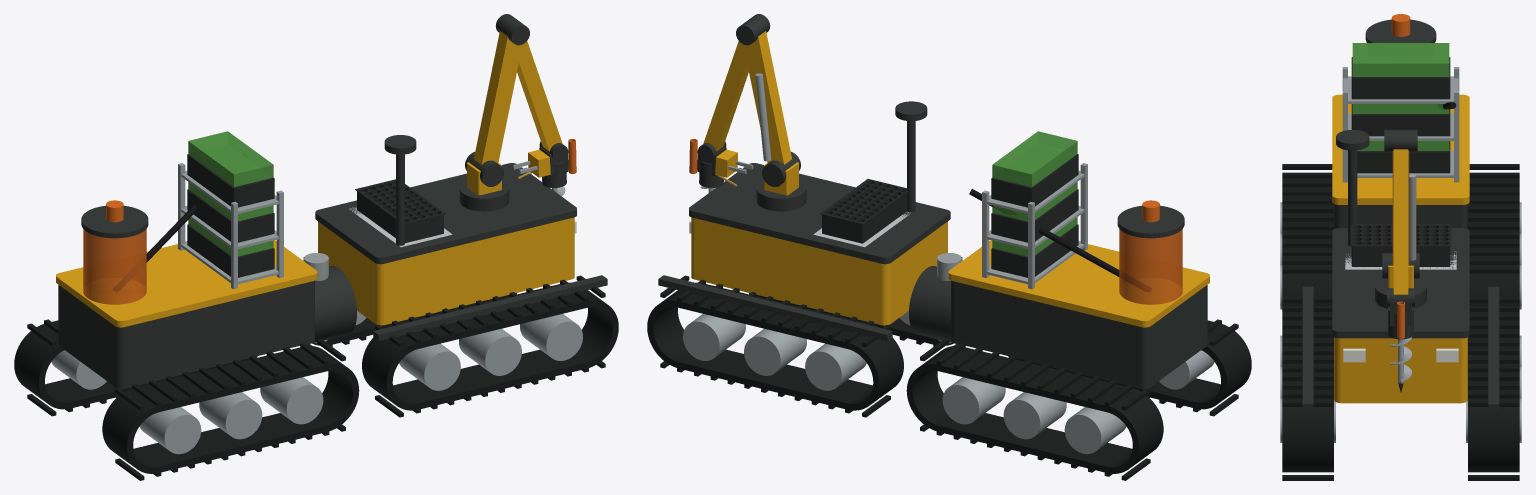
Rendered from pahadi.glb.
3 views of the same model, side by side, from view 1: azimuth 30°, elevation 25°; view 2: azimuth 150°, elevation 25°; view 3: azimuth 270°, elevation 25° (orthographic). The views are drawn at different scales.
Parts seen in each view (by area): view 1: chassis_0 (×2), top_plate_1 (×2), track_right_3, road_wheel_0 (×7), track_right_5, beam_1 (×2), track_left_2, hopper_5, magazine_4, active_tray_8, spare_canopy_2_17, track_frames_6 (+9 smaller); view 2: chassis_0 (×2), top_plate_1 (×2), track_left_2, road_wheel_0 (×7), track_left_4, beam_1 (×2), track_right_3, hopper_5, active_tray_8, magazine_4, spare_canopy_2_17, track_frames_6 (+11 smaller); view 3: top_plate_1 (×2), chassis_0 (×2), track_left_4, track_right_5, track_left_2, track_right_3, spare_canopy_2_17, active_tray_8, track_frames_6, magazine_4, beam_1 (×2), spare_tray_2_16 (+18 smaller).
Part boxes in pixels (bbox=[...]): chassis_0 (×2): bbox=[58, 217, 574, 388]; top_plate_1 (×2): bbox=[56, 163, 576, 327]; track_right_3: bbox=[102, 339, 359, 480]; road_wheel_0 (×7): bbox=[51, 314, 582, 454]; track_right_5: bbox=[362, 275, 618, 417]; beam_1 (×2): bbox=[474, 31, 562, 164]; track_left_2: bbox=[14, 319, 257, 416]; hopper_5: bbox=[83, 229, 146, 304]; magazine_4: bbox=[178, 163, 283, 289]; active_tray_8: bbox=[355, 179, 445, 243]; spare_canopy_2_17: bbox=[188, 131, 273, 186]; track_frames_6: bbox=[373, 275, 607, 341]; chassis_0 (×2): bbox=[691, 217, 1207, 388]; top_plate_1 (×2): bbox=[689, 163, 1209, 327]; track_left_2: bbox=[906, 339, 1163, 480]; road_wheel_0 (×7): bbox=[683, 314, 1214, 454]; track_left_4: bbox=[647, 275, 903, 417]; beam_1 (×2): bbox=[703, 31, 791, 164]; track_right_3: bbox=[1008, 319, 1251, 416]; hopper_5: bbox=[1119, 229, 1182, 304]; active_tray_8: bbox=[820, 179, 907, 243]; magazine_4: bbox=[982, 163, 1087, 289]; spare_canopy_2_17: bbox=[992, 131, 1077, 186]; track_frames_6: bbox=[658, 275, 892, 341]; top_plate_1 (×2): bbox=[1332, 94, 1469, 338]; chassis_0 (×2): bbox=[1334, 204, 1467, 403]; track_left_4: bbox=[1468, 297, 1519, 480]; track_right_5: bbox=[1282, 297, 1333, 480]; track_left_2: bbox=[1468, 164, 1519, 305]; track_right_3: bbox=[1282, 164, 1333, 305]; spare_canopy_2_17: bbox=[1352, 43, 1449, 76]; active_tray_8: bbox=[1350, 224, 1451, 266]; track_frames_6: bbox=[1302, 286, 1499, 410]; magazine_4: bbox=[1342, 67, 1459, 182]; beam_1 (×2): bbox=[1392, 149, 1409, 294]; spare_tray_2_16: bbox=[1351, 57, 1450, 99].
Size of the model in its own units: 3310 by 1970 by 1300.
